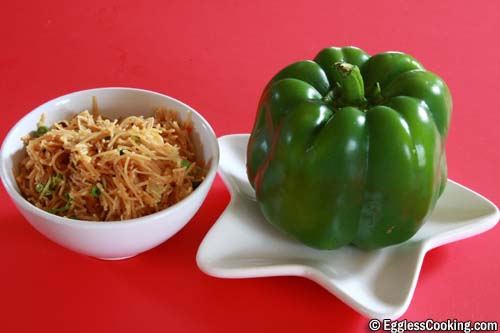capsicum: (246, 44, 453, 249)
